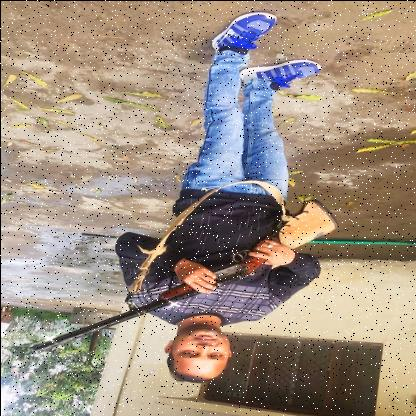rifle: (28, 197, 340, 354)
